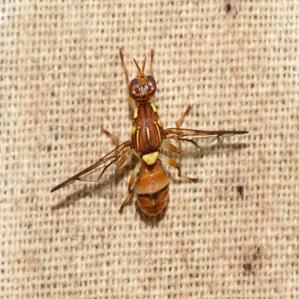melon fly: (41, 34, 255, 241)
